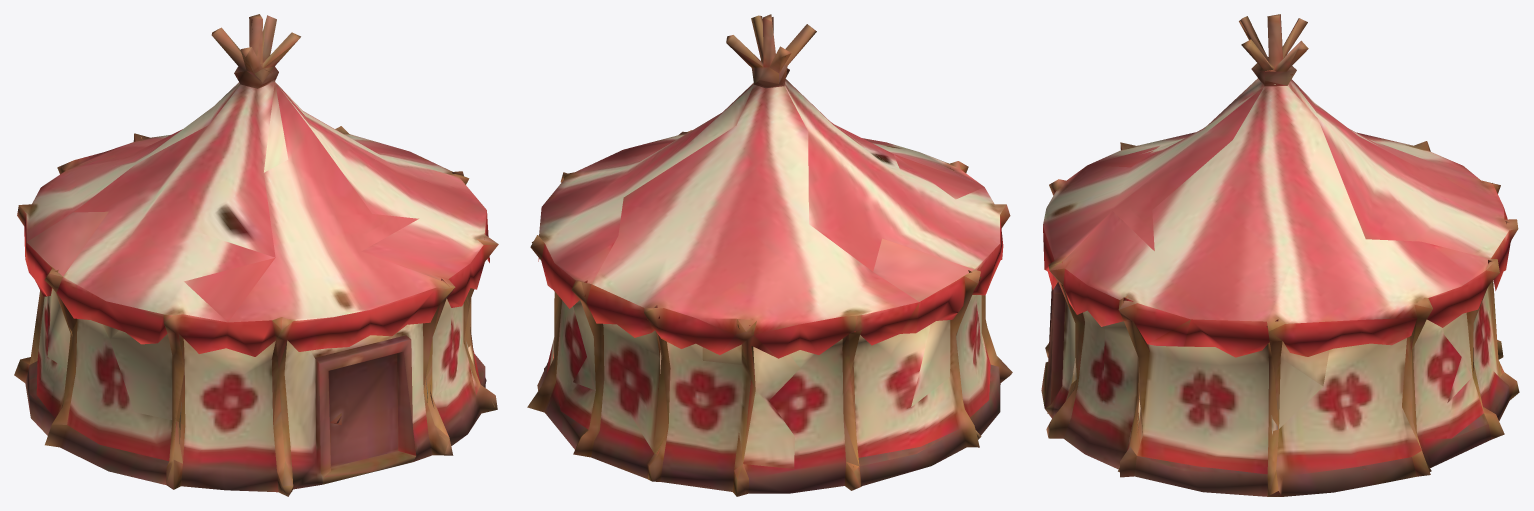
File: lg-desert-tent.glb
3 views of the same model, side by side, from view 1: azimuth 30°, elevation 25°; view 2: azimuth 150°, elevation 25°; view 3: azimuth 270°, elevation 25° (orthographic).
Visible parts, largest first — view 1: geometry_0; view 2: geometry_0; view 3: geometry_0.
Part boxes in pixels (x1,y1,x2,y2): geometry_0: (14, 14, 498, 496); geometry_0: (527, 14, 1012, 496); geometry_0: (1041, 14, 1519, 496).
Bounding box in the file's own units: 1 × 0.8612 × 0.9728.
Materials: 1 (1 with a texture image).
